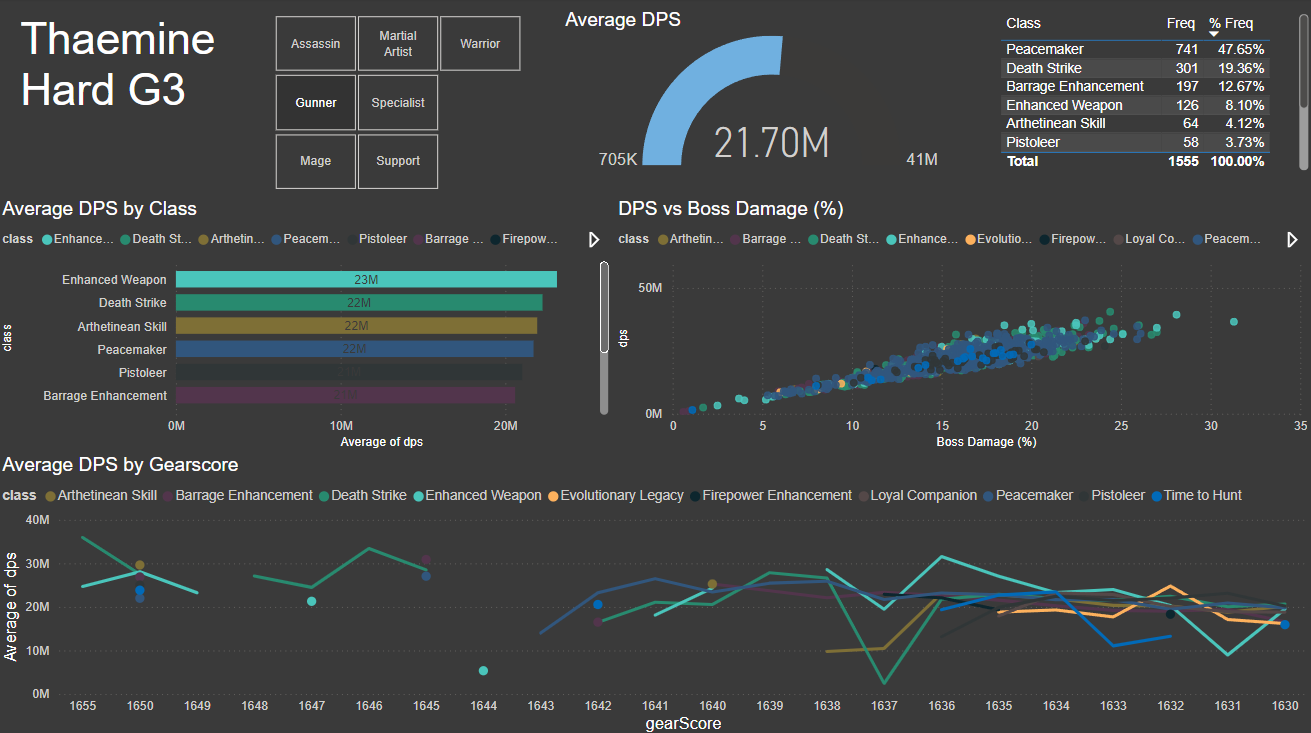

The dashboard page shown, as its layout file describes it:
{"tool":"powerbi","page":{"name":"Hard Thaemine G3","canvas":[1280,720],"ordinal":0},"visuals":[{"type":"barChart","title":"Average DPS by Class","fields":{"Y":["Avg(Thaemine_G3_Hard.dps)"],"Category":["Thaemine_G3_Hard.class"],"Series":["Thaemine_G3_Hard.class"]},"box":[0,194.8,599.5,248.8],"z":1000},{"type":"lineChart","title":"Average DPS by Gearscore","fields":{"Y":["Avg(Thaemine_G3_Hard.dps)"],"Category":["Thaemine_G3_Hard.gearScore"],"Series":["Thaemine_G3_Hard.class"]},"box":[0,443.7,1280,275.8],"z":2000},{"type":"scatterChart","title":"DPS vs Boss Damage (%)","fields":{"X":["Thaemine_G3_Hard.percent"],"Y":["Thaemine_G3_Hard.dps"],"Series":["Thaemine_G3_Hard.class"]},"box":[599.5,194.8,680.5,248.8],"z":3000},{"type":"tableEx","fields":{"Values":["Thaemine_G3_Hard.class","CountNonNull(Thaemine_G3_Hard.class)1","CountNonNull(Thaemine_G3_Hard.class)"]},"box":[970.2,11,309.8,161.9],"z":4000},{"type":"gauge","title":"Average DPS","fields":{"Y":["Avg(Thaemine_G3_Hard.dps)"],"MinValue":["Min(Thaemine_G3_Hard.dps)"],"MaxValue":["Max(Thaemine_G3_Hard.dps)1"]},"box":[547.6,11,405.7,161.9],"z":5000},{"type":"textbox","box":[18,11,207.8,133.9],"z":6000},{"type":"slicer","fields":{"Values":["Thaemine_G3_Hard.class_type"]},"box":[244.8,11,287.8,181.9],"z":6001}]}

Visuals, with their boxes in screenshot pixels (x1, y1, x2, y2), scaled from the page's 1280x720 canvas onto the 1311x733 screenshot:
"Average DPS by Class" barChart: Rect(0, 198, 614, 452)
"Average DPS by Gearscore" lineChart: Rect(0, 452, 1310, 732)
"DPS vs Boss Damage (%)" scatterChart: Rect(614, 198, 1310, 452)
tableEx - Thaemine_G3_Hard.class x CountNonNull(Thaemine_G3_Hard.class)1: Rect(994, 11, 1310, 176)
"Average DPS" gauge: Rect(561, 11, 976, 176)
textbox: Rect(18, 11, 231, 148)
slicer - Thaemine_G3_Hard.class_type: Rect(251, 11, 545, 196)
